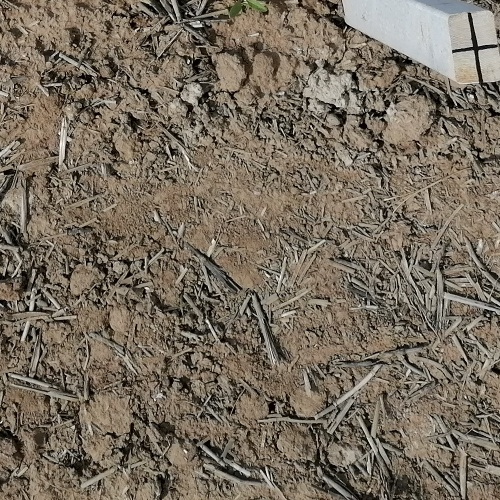beet: (229, 0, 268, 19)
